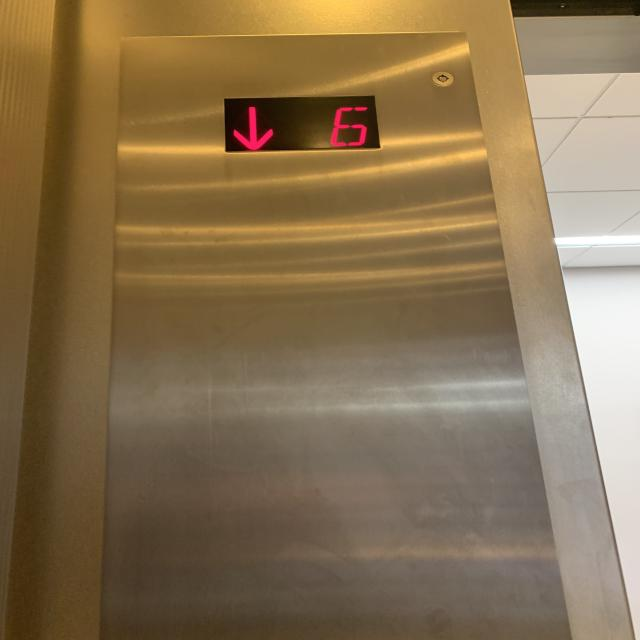box: (215, 96, 392, 157)
